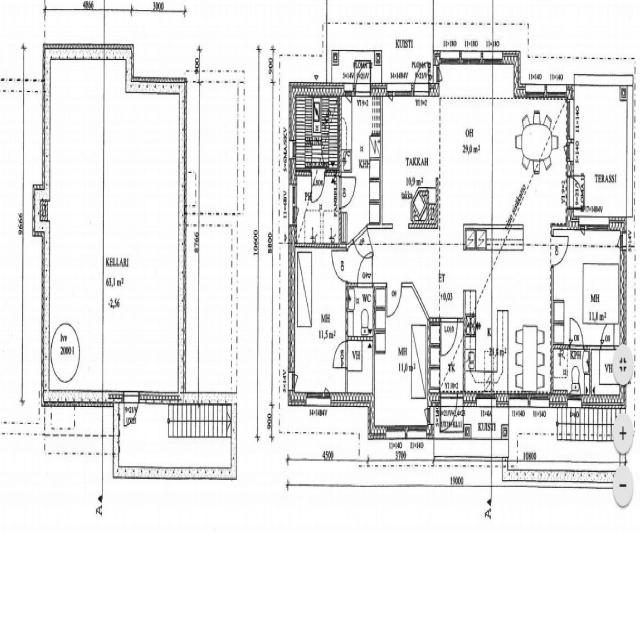door: (353, 226, 373, 269), (440, 394, 457, 442), (567, 177, 590, 208), (414, 52, 429, 96), (356, 52, 370, 96), (124, 390, 138, 432), (441, 318, 457, 354), (357, 252, 373, 286), (339, 177, 356, 207), (551, 236, 567, 266), (331, 250, 347, 280), (387, 282, 401, 316), (600, 318, 614, 349), (570, 317, 583, 349), (332, 341, 348, 367), (312, 168, 324, 202)
